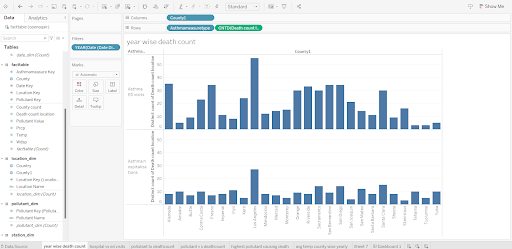

The page's visual inventory and layout, read from the dashboard file:
{"tool":"tableau","page":{"name":"Dashboard 2 (2)","canvas":[1000,800],"ordinal":1},"visuals":[{"type":"worksheet","title":"county wise map deaths (2)","mark":"Automatic","box":[8,8,412,392]},{"type":"worksheet","title":"county wise pollutat concentration (2)","mark":"Automatic","box":[420,8,412,392]},{"type":"legend","title":"county wise map deaths (2)","param":"[federated.1mkl9u3136kezh1epy9x30524kx6].[sum:Death_count_location:qk]","box":[832,8,160,73]},{"type":"legend","title":"county wise pollutat concentration (2)","param":"[federated.1mkl9u3136kezh1epy9x30524kx6].[sum:pollutant_value:qk]","box":[832,81,160,73]},{"type":"worksheet","title":"Death Count over years in each county","mark":"Automatic","rows":["County"],"cols":["date (date_dim)"],"box":[8,400,984,392]}]}

Visuals, with their boxes on the page's 1000x800 design canvas (x1, y1, x2, y2). These are canvas units, not pixel positions in the 512x249 screenshot, which may show the page scaled, cropped or inside an application window:
"county wise map deaths (2)" worksheet: Rect(8, 8, 420, 400)
"county wise pollutat concentration (2)" worksheet: Rect(420, 8, 832, 400)
"county wise map deaths (2)" legend: Rect(832, 8, 992, 81)
"county wise pollutat concentration (2)" legend: Rect(832, 81, 992, 154)
"Death Count over years in each county" worksheet: Rect(8, 400, 992, 792)
